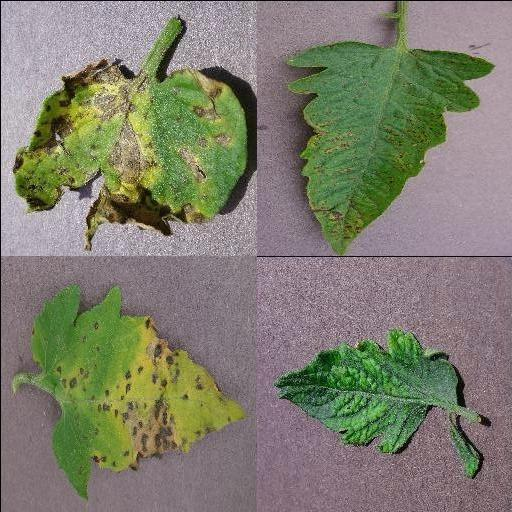Mosaic Virus: (272, 323, 458, 457), (447, 419, 483, 483)
Septoria: (29, 282, 247, 503), (282, 41, 493, 255), (12, 59, 245, 251)
